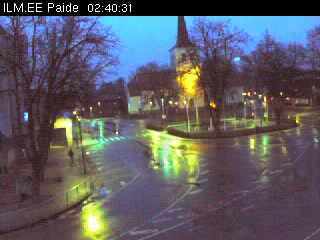person: (67, 146, 75, 168)
